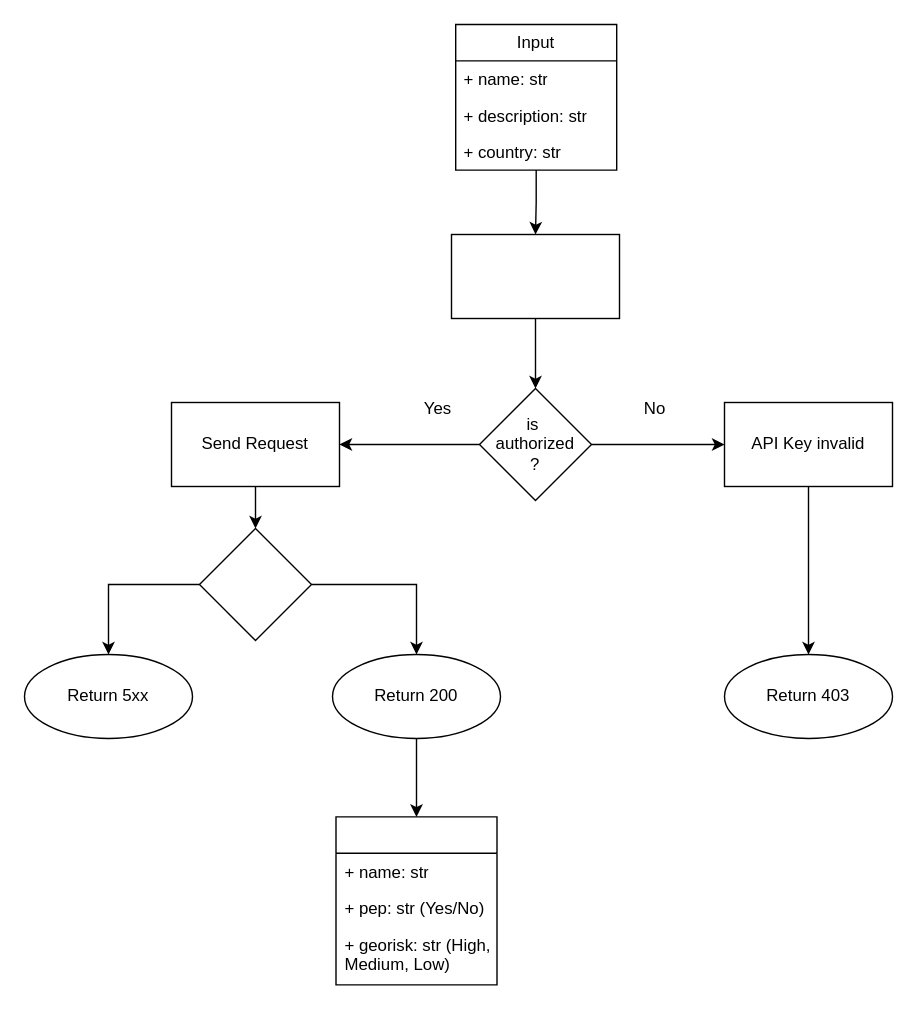
Image size: 917x1014. Some labels were removed from this diagram. The shapes that lost their labels are listed below. From the top down, each one's box as (x1, y1, x2, y2) in pixels, then its label:
(450, 233, 620, 318): example.com/api
(198, 527, 312, 640): request ok ?
(335, 816, 497, 985): Output
